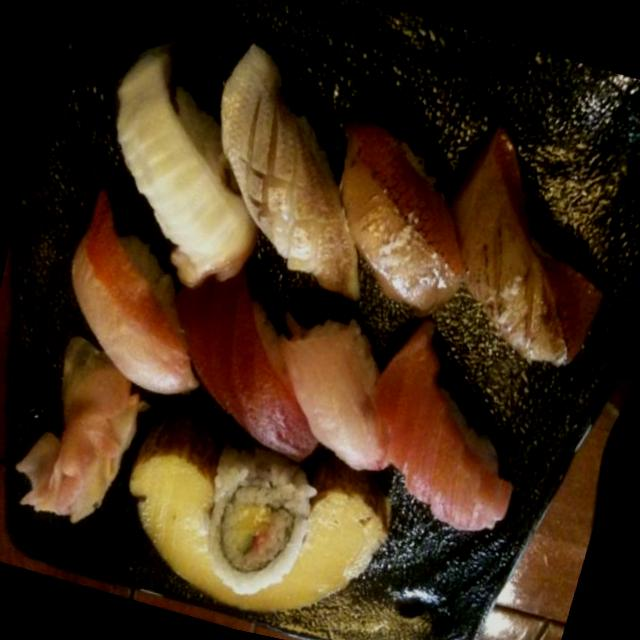Sushi: (0, 35, 613, 640)
